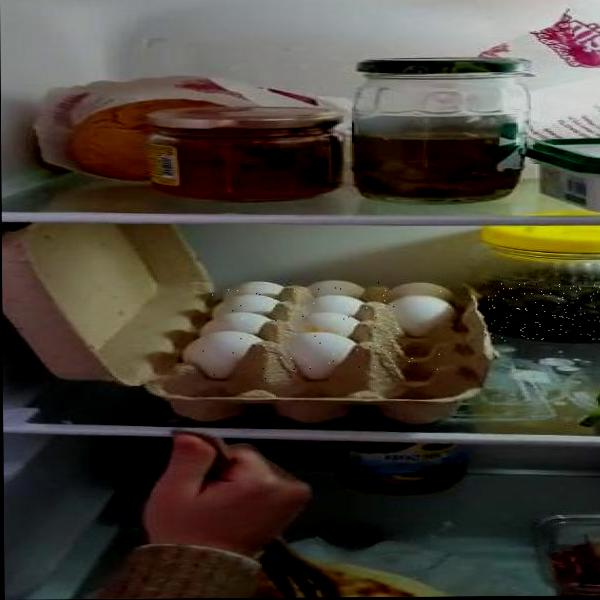eggs: (199, 281, 451, 380)
olives: (483, 283, 600, 341)
